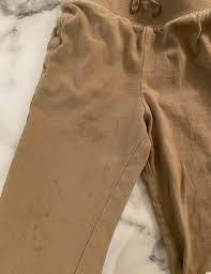oil: (80, 107, 116, 152), (49, 176, 66, 188)
